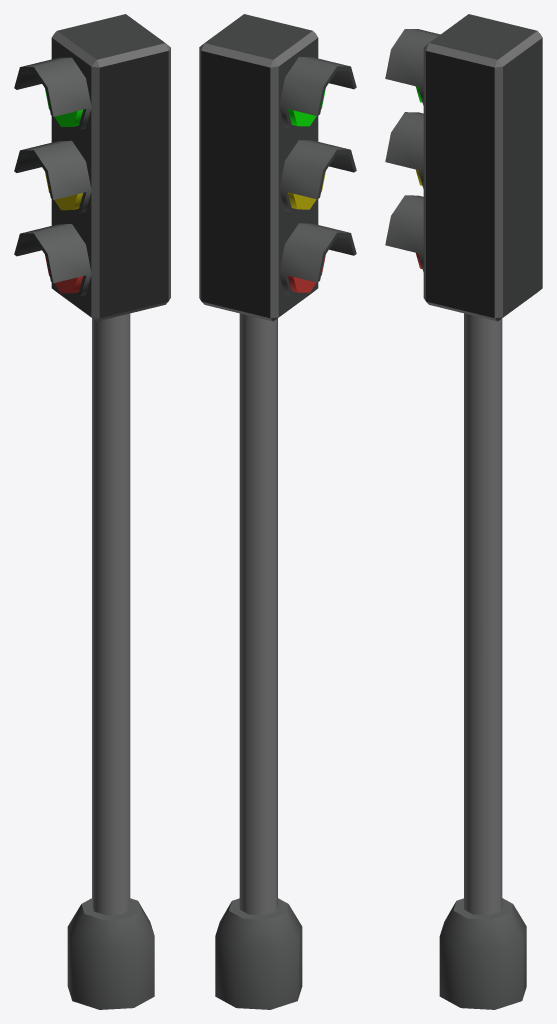
Rendered from Traffic_light.fbx.
3 views of the same model, side by side, from view 1: azimuth 30°, elevation 25°; view 2: azimuth 150°, elevation 25°; view 3: azimuth 330°, elevation 25° (orthographic).
Parts seen in each view (by area): view 1: Cylinder; view 2: Cylinder; view 3: Cylinder.
Part boxes in pixels (x1,y1,x2,y2): Cylinder: (14,14,170,1009); Cylinder: (199,14,356,1009); Cylinder: (385,14,542,1009).
Size of the model in its own units: 0.5471 by 4.24 by 0.3691.
